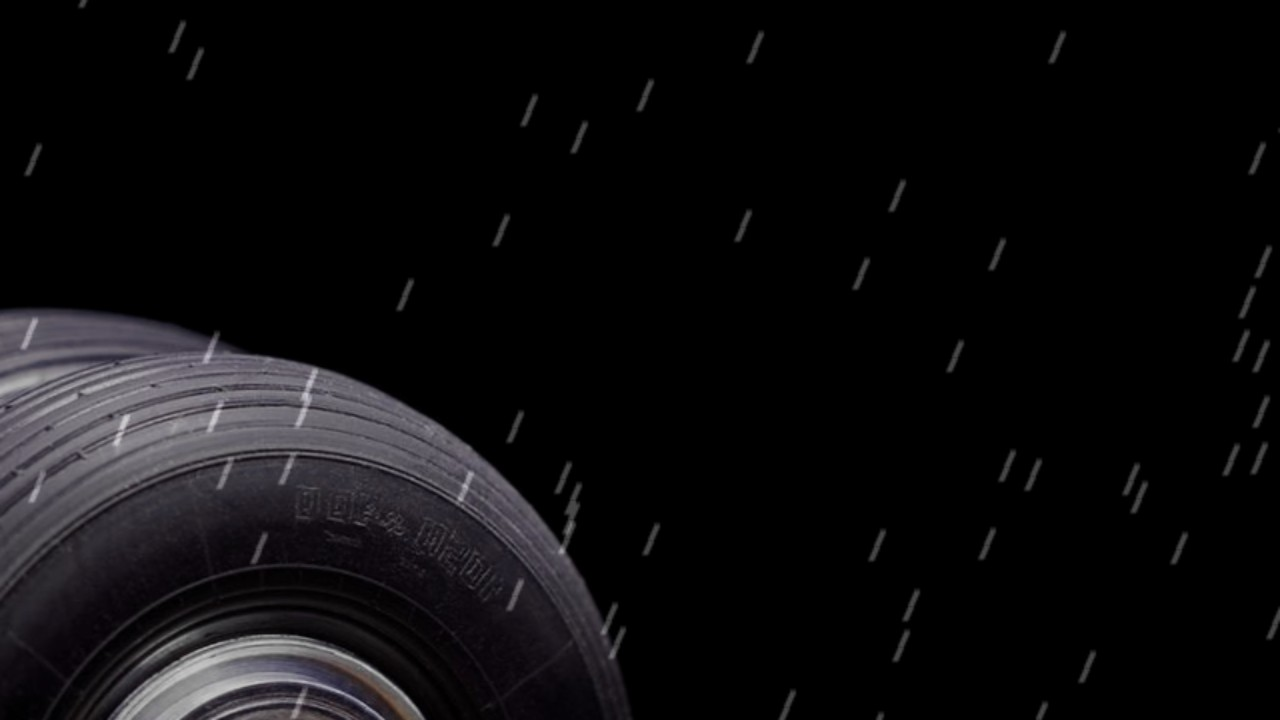wheel: (0, 335, 674, 720), (0, 301, 380, 720)
